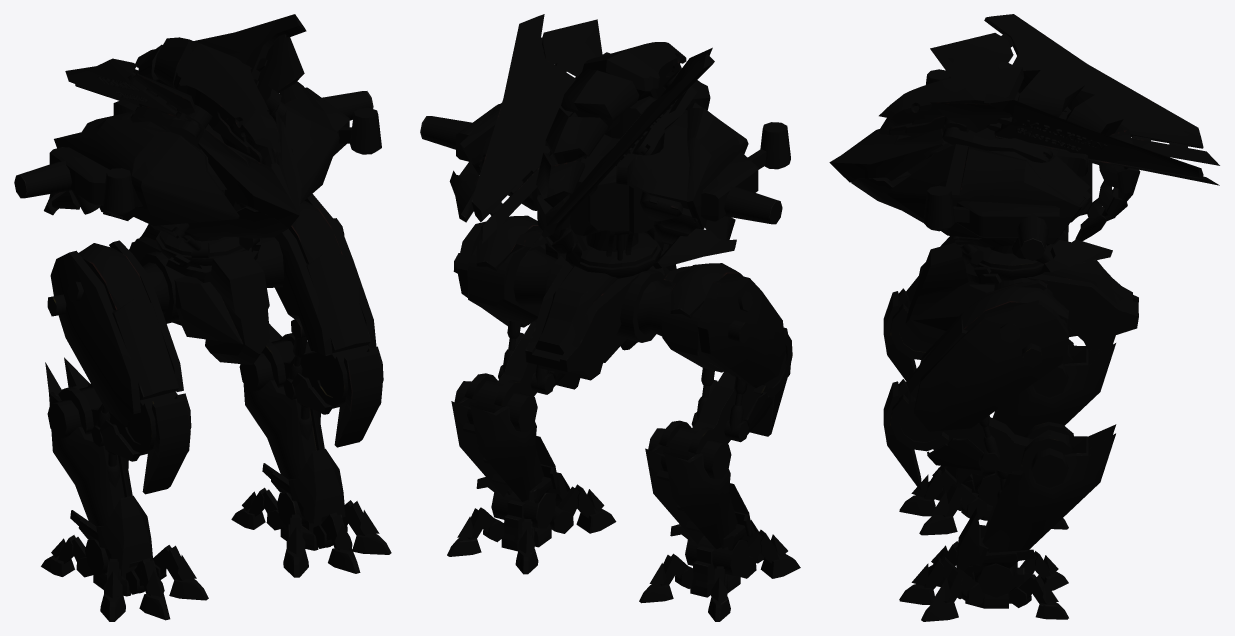
Rendered from guardmk0.glb.
The picture shows the model from 3 angles, left to right: view 1: azimuth 30°, elevation 25°; view 2: azimuth 150°, elevation 25°; view 3: azimuth 270°, elevation 25°; orthographic projection. The views are drawn at different scales.
Visible parts, largest first — view 1: node_id10; view 2: node_id10; view 3: node_id10.
Boxes of the visible parts, bbox=[...] form: node_id10: bbox=[14, 14, 391, 621]; node_id10: bbox=[420, 14, 800, 621]; node_id10: bbox=[829, 14, 1219, 621].
Bounding box in the file's own units: 0.3576 × 0.512 × 0.3623.
Materials: 3 (3 with a texture image).
